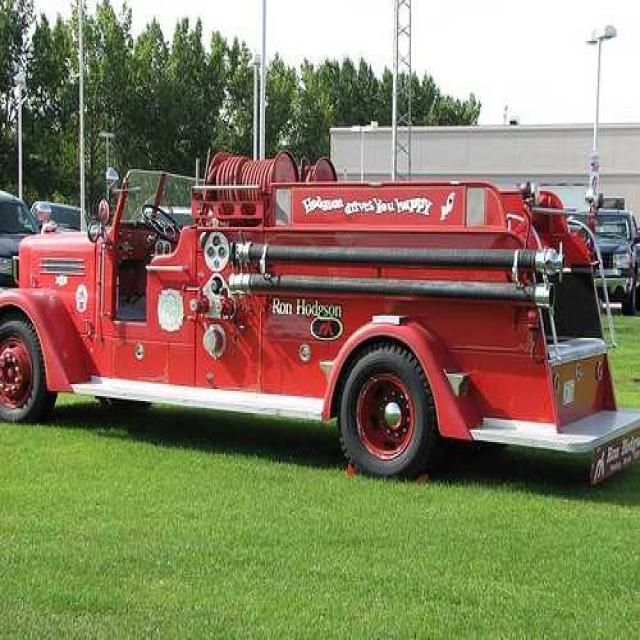ambulance: (19, 148, 612, 447)
